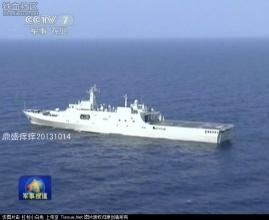warship: (21, 79, 236, 144)
